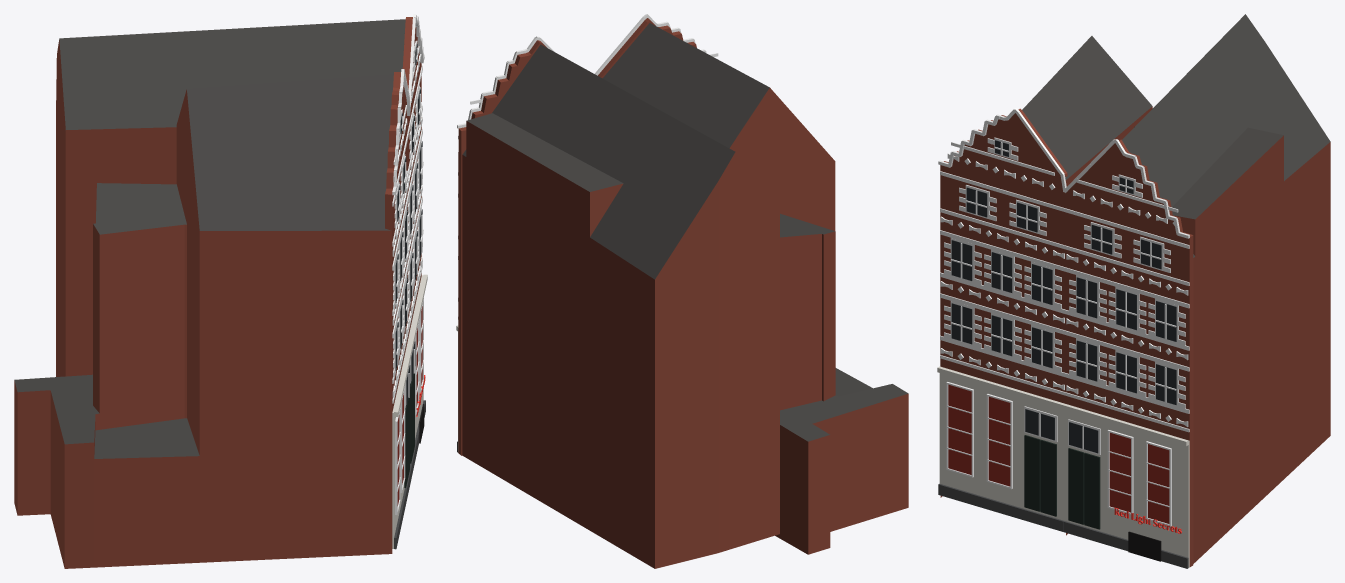
Rendered from red-light-secrets.glb.
3 views of the same model, side by side, from view 1: azimuth 30°, elevation 25°; view 2: azimuth 150°, elevation 25°; view 3: azimuth 270°, elevation 25° (orthographic). The views are drawn at different scales.
Parts seen in each view (by area): view 1: red-light-secrets; view 2: red-light-secrets; view 3: red-light-secrets.
Part boxes in pixels (x1=…): red-light-secrets: x1=14, y1=14, x2=427, y2=568; red-light-secrets: x1=456, y1=14, x2=908, y2=568; red-light-secrets: x1=937, y1=14, x2=1330, y2=568.
Size of the model in its own units: 16.85 by 16.65 by 14.38.
